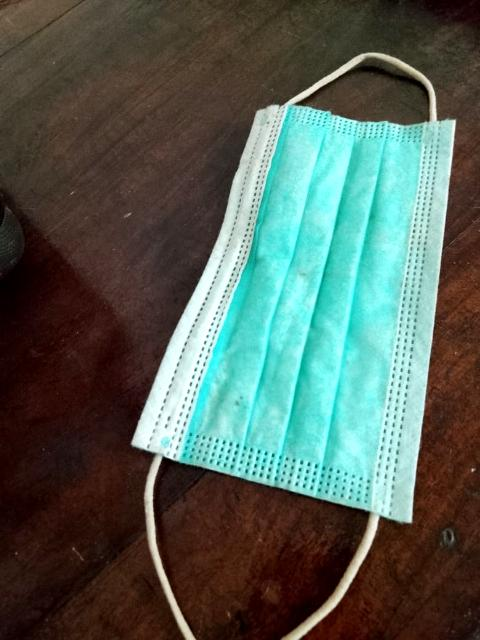mask: (98, 3, 480, 640)
